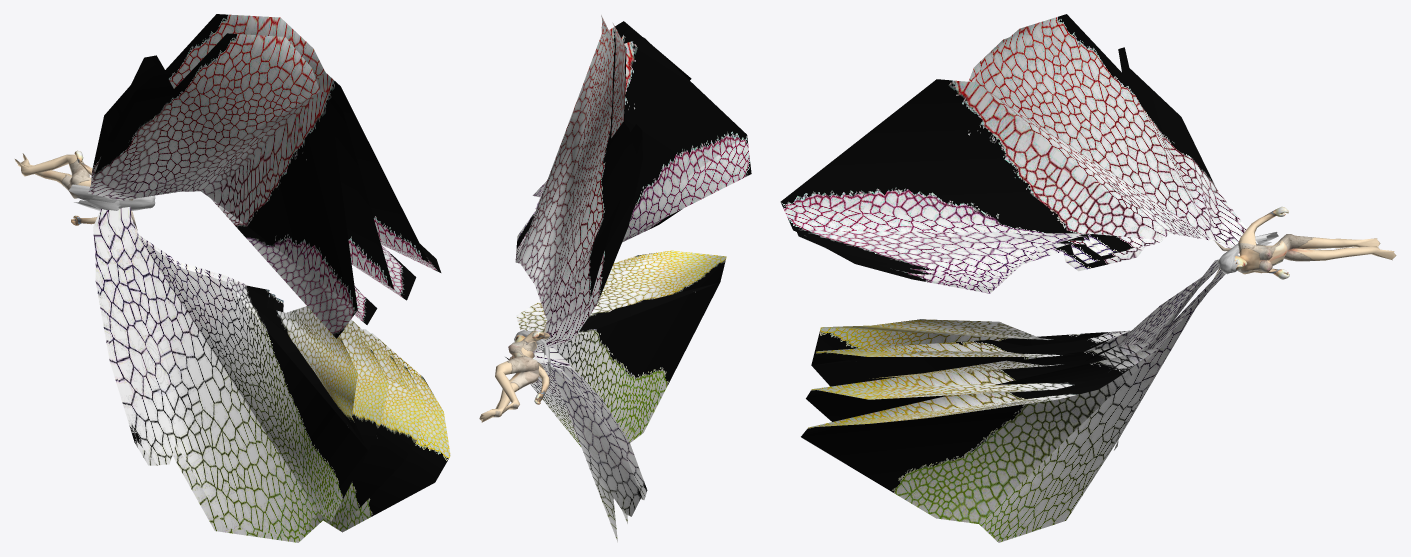
File: angel_000237.obj
3 views of the same model, side by side, from view 1: azimuth 30°, elevation 25°; view 2: azimuth 150°, elevation 25°; view 3: azimuth 270°, elevation 25° (orthographic). The views are drawn at different scales.
Parts seen in each view (by area): view 1: wings_Plane.001, body.001_omino.012, hair.003_omino.013; view 2: wings_Plane.001, body.001_omino.012; view 3: wings_Plane.001, body.001_omino.012.
Part boxes in pixels (<box>): wings_Plane.001: <box>88,14,450,542</box>; body.001_omino.012: <box>15,150,137,230</box>; hair.003_omino.013: <box>68,184,155,210</box>; wings_Plane.001: <box>505,15,751,542</box>; body.001_omino.012: <box>479,322,549,422</box>; wings_Plane.001: <box>780,14,1258,542</box>; body.001_omino.012: <box>1214,206,1396,279</box>.
Bounding box in the file's own units: 3.4 × 8.63 × 9.41.
